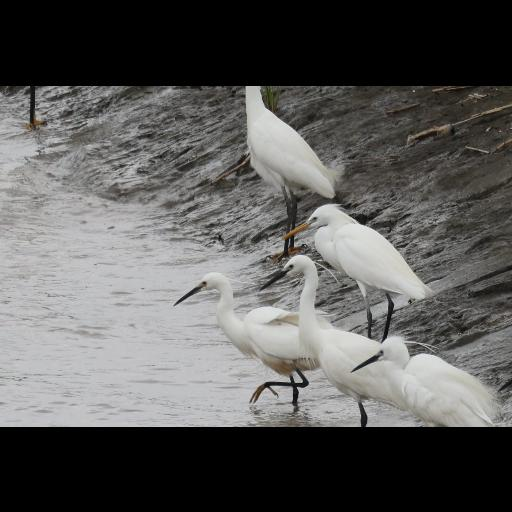chinese_egret: (280, 202, 436, 336)
